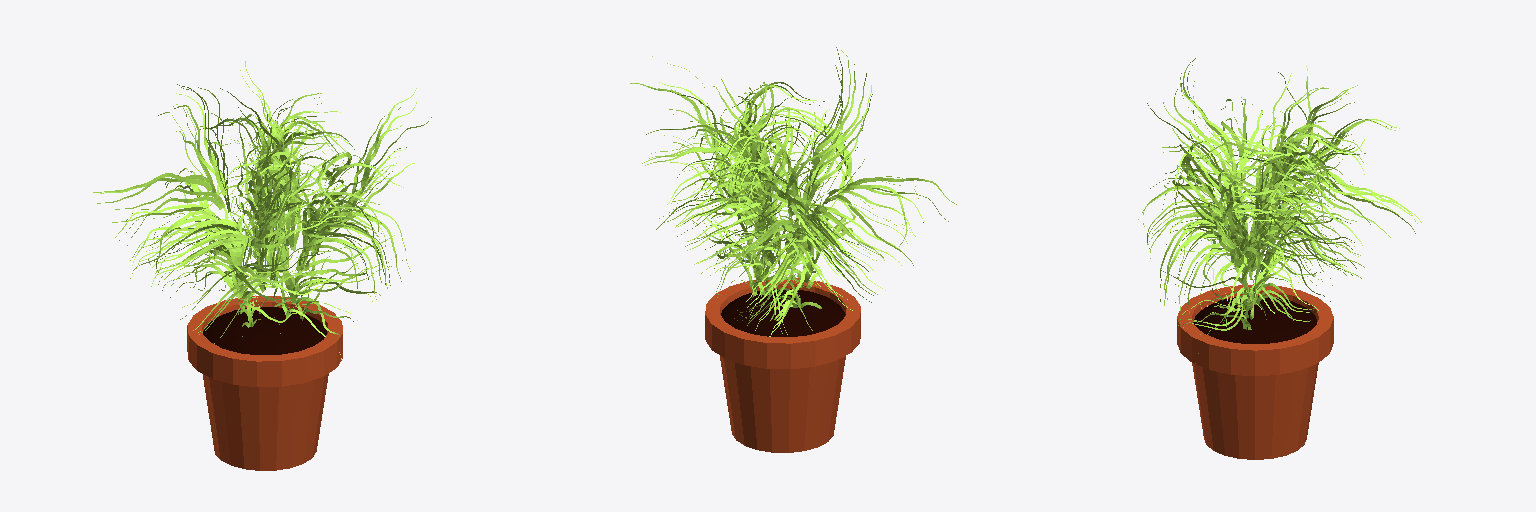
Rendered from Plant.obj.
The picture shows the model from 3 angles: view 1: azimuth 30°, elevation 25°; view 2: azimuth 150°, elevation 25°; view 3: azimuth 270°, elevation 25°; orthographic projection.
Visible parts, largest first — view 1: pCylinder2; view 2: pCylinder2; view 3: pCylinder2.
Part boxes in pixels (x1,y1,x2,y2): pCylinder2: (93,61,431,470); pCylinder2: (630,47,956,452); pCylinder2: (1138,58,1421,459).
Size of the model in its own units: 7.15 by 7.86 by 5.57.